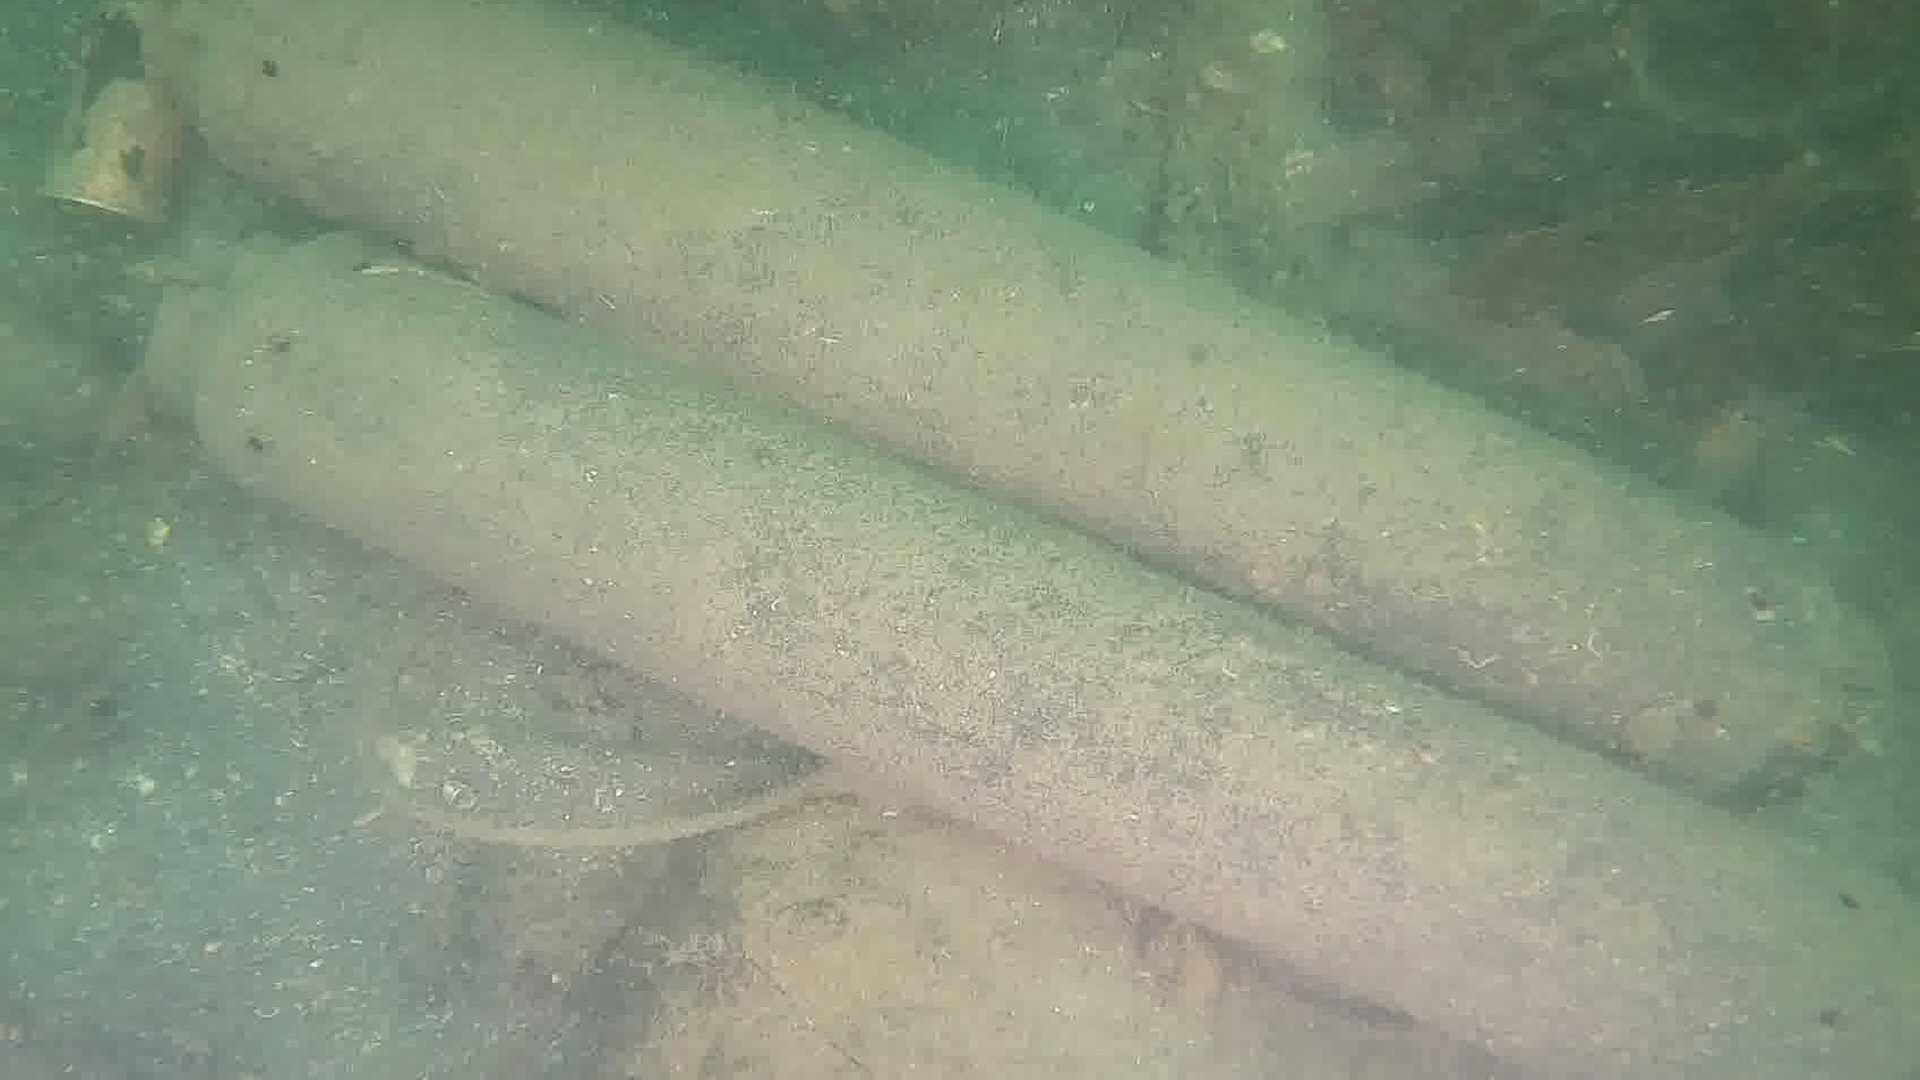eel fish trap: (136, 227, 1920, 1080), (108, 3, 1884, 806)
